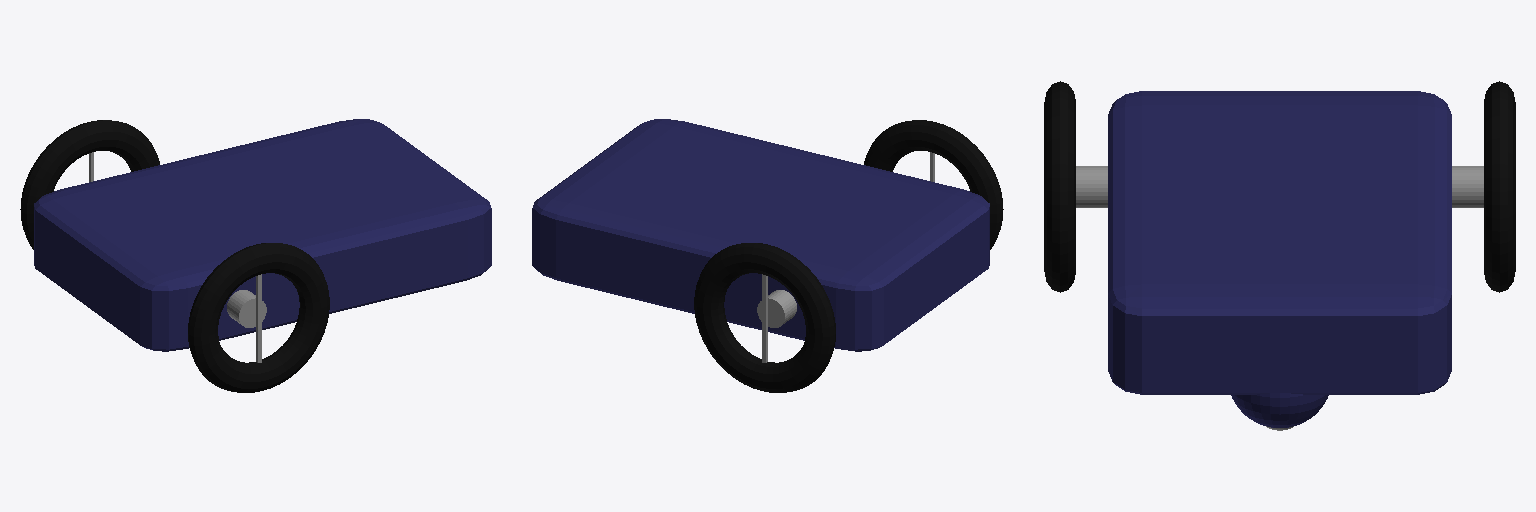
The robot description file, URDF, robot "robot":
<?xml version="1.0"?>

<robot name="robot">

    <!-- Link - chassis -->
    <link name="link_chassis">
        <inertial>
            <mass value="10" />
            <origin xyz="0 0 0.3" rpy="0 0 0" />
            <inertia ixx="1.5417" ixy="0" ixz="0" iyy="3.467" iyz="0" izz="4.742" />
        </inertial>

        <collision>
            <!-- <geometry>
                <box size="2 1.3 0.4" />
            </geometry> -->
            <geometry>
                <mesh filename="package://robot_description/meshes/chassis.stl" />
            </geometry>
        </collision>

        <visual>
            <geometry>
                <mesh filename="package://robot_description/meshes/chassis.stl" />
            </geometry>
            <!-- <geometry>
                <box size="2 1.3 0.4" />
            </geometry> -->
            <material name="DarkBlue">
                <color rgba="0.2 0.2 0.4 1" />
            </material>
        </visual>
    </link>

    <!-- Joint - caster wheel -->
    <joint name="joint_chassis_caster_wheel" type="fixed">
        <origin rpy="0 0 0" xyz="0.8 0 -0.15" />
        <child link="link_caster_wheel" />
        <parent link="link_chassis" />
        <joint_properties damping="1.0" friction="1.0" />
    </joint>
    
    <!-- Link - caster wheel -->
    <link name="link_caster_wheel">
        <inertial>
            <mass value="1" />
            <origin xyz="0 0 0" rpy="0 0 0" />
            <inertia ixx="0.002526666666667" ixy="0" ixz="0" iyy="0.002526666666667" iyz="0" izz="0.005"/>
        </inertial>

        <!-- Caster wheel support -->
        <collision>
            <origin rpy="0 0 0" xyz="0 0 -0.03" />
            <geometry>
                <sphere radius="0.2" />
            </geometry>
        </collision>
        <visual>
            <origin rpy="0 0 0" xyz="0 0 -0.03" />
            <geometry>
                <sphere radius="0.2" />
            </geometry>
            <material name="DarkBlue">
                <color rgba="0.2 0.2 0.4 1" />
            </material>
        </visual>

        <!-- Caster wheel -->
        <collision>
            <origin rpy="0 0 0" xyz="0 0 -0.15" />
            <geometry>
                <sphere radius="0.10" />
            </geometry>
        </collision>
        <visual>
            <origin rpy="0 0 0" xyz="0 0 -0.15" />
            <geometry>
                <sphere radius="0.10" />
            </geometry>
            <material name="Grey">
                <color rgba="0.6 0.6 0.6 1" />
            </material>
        </visual>
    </link>

    <!-- Joint - chassis / left wheel -->
    <joint name="joint_chassis_left_wheel" type="continuous">
        <origin rpy="0 0 0" xyz="-0.5 0.65 0" />
        <child link="link_left_wheel" />
        <parent link="link_chassis" />
        <axis rpy="0 0 0" xyz="0 1 0" />
        <limit effort="10000" velocity="1000" />
        <joint_properties damping="1.0" friction="1.0" />
    </joint>
    
    <!-- Link - left wheel -->
    <link name="link_left_wheel">
        <inertial>
            <mass value="1" />
            <origin xyz="0 0 0" rpy="0 0 0" />
            <inertia ixx="0.002526666666667" ixy="0" ixz="0" iyy="0.002526666666667" iyz="0" izz="0.005"/>
        </inertial>

        <!-- Tires -->
        <collision>
            <origin rpy="1.5707 0 0" xyz="0 0.18 0" />
            <geometry>
                <cylinder length="0.12" radius="0.4"/>
            </geometry>
        </collision>
        <visual>
            <origin rpy="1.5707 0 0" xyz="0 0.18 0" />
            <geometry>
                <mesh filename="package://robot_description/meshes/wheel.stl" />
            </geometry>
            <material name="Black">
                <color rgba="0.1 0.1 0.1 1" />
            </material>
        </visual>

        <!-- Axle -->
        <collision>
            <origin rpy="1.5707 0 0" xyz="0 0.06 0" />
            <geometry>
                <cylinder length="0.12" radius="0.08"/>
            </geometry>
        </collision>
        <visual>
            <origin rpy="1.5707 0 0" xyz="0 0.06 0" />
            <geometry>
                <cylinder length="0.12" radius="0.08"/>
            </geometry>
            <material name="Grey">
                <color rgba="0.6 0.6 0.6 1" />
            </material>
        </visual>

        <!-- Hubcap -->
        <visual>
            <origin rpy="1.5707 0 0" xyz="0 0.18 0" />
            <geometry>
                <box size="0.02 0.5 0.02" />
            </geometry>
            <material name="Grey">
                <color rgba="0.6 0.6 0.6 1" />
            </material>
        </visual>
    </link>

    <!-- Joint - chassis / right wheel -->
    <joint name="joint_chassis_right_wheel" type="continuous">
        <origin rpy="0 0 0" xyz="-0.5 -0.65 0" />
        <child link="link_right_wheel" />
        <parent link="link_chassis" />
        <axis rpy="0 0 0" xyz="0 1 0" />
        <limit effort="10000" velocity="1000" />
        <joint_properties damping="1.0" friction="1.0" />
    </joint>
    
    <!-- Link - right wheel -->
    <link name="link_right_wheel">
        <inertial>
            <mass value="1" />
            <origin xyz="0 0 0" rpy="0 0 0" />
            <inertia ixx="0.002526666666667" ixy="0" ixz="0" iyy="0.002526666666667" iyz="0" izz="0.005"/>
        </inertial>

        <!-- Tires -->
        <collision>
            <origin rpy="1.5707 0 0" xyz="0 -0.18 0" />
            <geometry>
                <cylinder length="0.12" radius="0.4"/>
            </geometry>
        </collision>
        <visual>
            <origin rpy="1.5707 0 0" xyz="0 -0.18 0" />
            <geometry>
                <mesh filename="package://robot_description/meshes/wheel.stl" />
            </geometry>
            <material name="Black">
                <color rgba="0.1 0.1 0.1 1" />
            </material>
        </visual>

        <!-- Axle -->
        <collision>
            <origin rpy="1.5707 0 0" xyz="0 -0.06 0" />
            <geometry>
                <cylinder length="0.12" radius="0.08"/>
            </geometry>
        </collision>
        <visual>
            <origin rpy="1.5707 0 0" xyz="0 -0.06 0" />
            <geometry>
                <cylinder length="0.12" radius="0.08"/>
            </geometry>
            <material name="Grey">
                <color rgba="0.6 0.6 0.6 1" />
            </material>
        </visual>

        <!-- Hubcap -->
        <visual>
            <origin rpy="1.5707 0 0" xyz="0 -0.18 0" />
            <geometry>
                <box size="0.02 0.5 0.02" />
            </geometry>
            <material name="Grey">
                <color rgba="0.6 0.6 0.6 1" />
            </material>
        </visual>
    </link>

</robot>

--- Facts derived from the render (not from the file) ---
Views: 3 orthographic renders of the robot side by side, from view 1: azimuth 30°, elevation 25°; view 2: azimuth 150°, elevation 25°; view 3: azimuth 270°, elevation 25°.
Robot: robot — 4 links, 3 joints (2 continuous, 1 fixed); root link link_chassis; default pose: all joints at 0.
Links seen in each view (by area): view 1: link_chassis, link_right_wheel, link_left_wheel; view 2: link_chassis, link_left_wheel, link_right_wheel; view 3: link_chassis, link_left_wheel, link_right_wheel, link_caster_wheel.
Boxes of the visible links, x1,y1,x2,y2 form: link_chassis: (34, 119, 491, 351); link_right_wheel: (188, 243, 329, 392); link_left_wheel: (20, 120, 159, 249); link_chassis: (532, 119, 989, 351); link_left_wheel: (694, 243, 835, 392); link_right_wheel: (864, 120, 1003, 249); link_chassis: (1108, 91, 1451, 394); link_left_wheel: (1452, 81, 1515, 292); link_right_wheel: (1044, 81, 1107, 292); link_caster_wheel: (1231, 393, 1328, 430).
Bounding box of the posed robot: 2 × 1.78 × 0.8 m (x, y, z).
Meshes: 2 distinct files referenced, 3 mesh visuals loaded (2 binary STL).